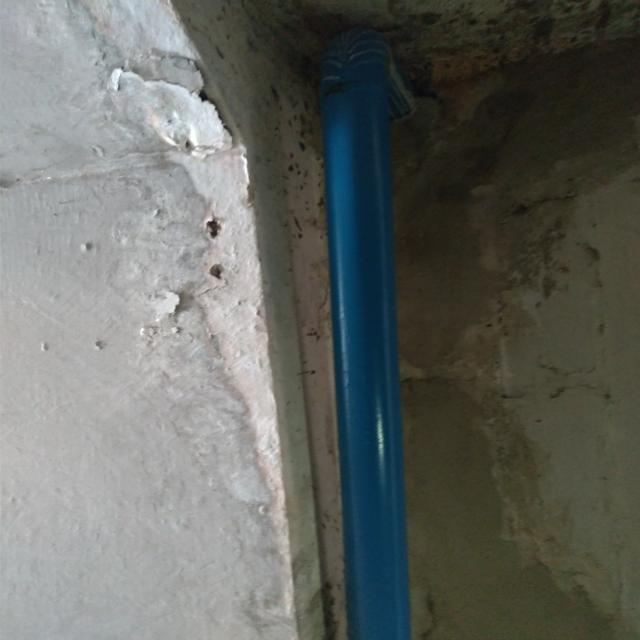gas: (323, 48, 412, 639)
